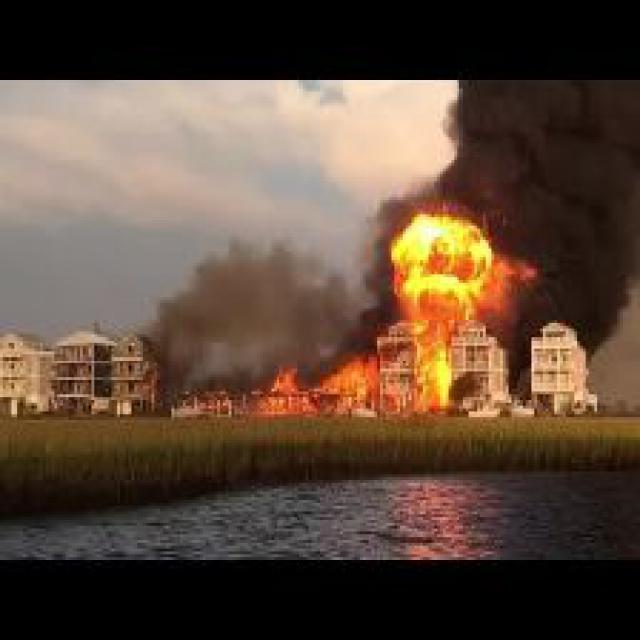fire: (268, 211, 508, 420)
